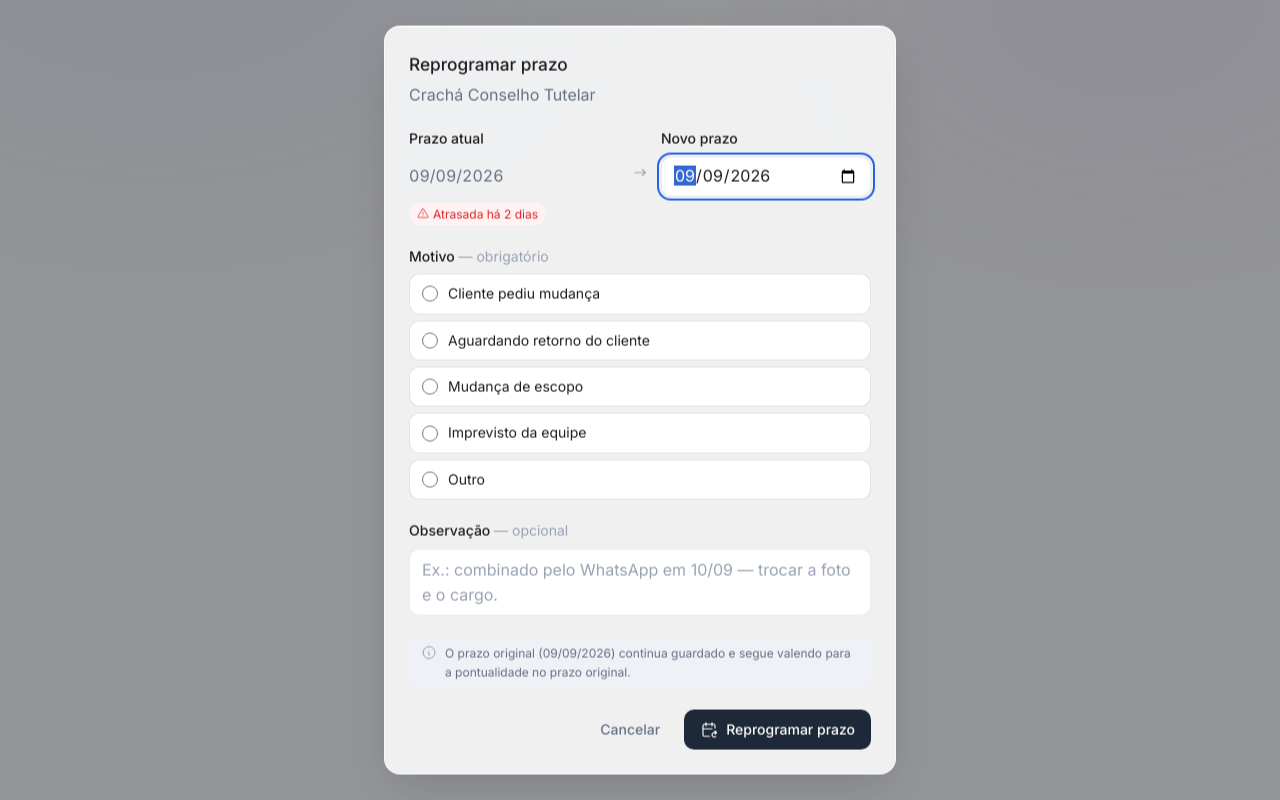
Test case: ReprogramarPrazoDialog › sem motivo não reprograma, e diz o que falta
Type "2026-09-18" into the date field labelled "Novo prazo" at [766, 176], box [661,156,871,196]
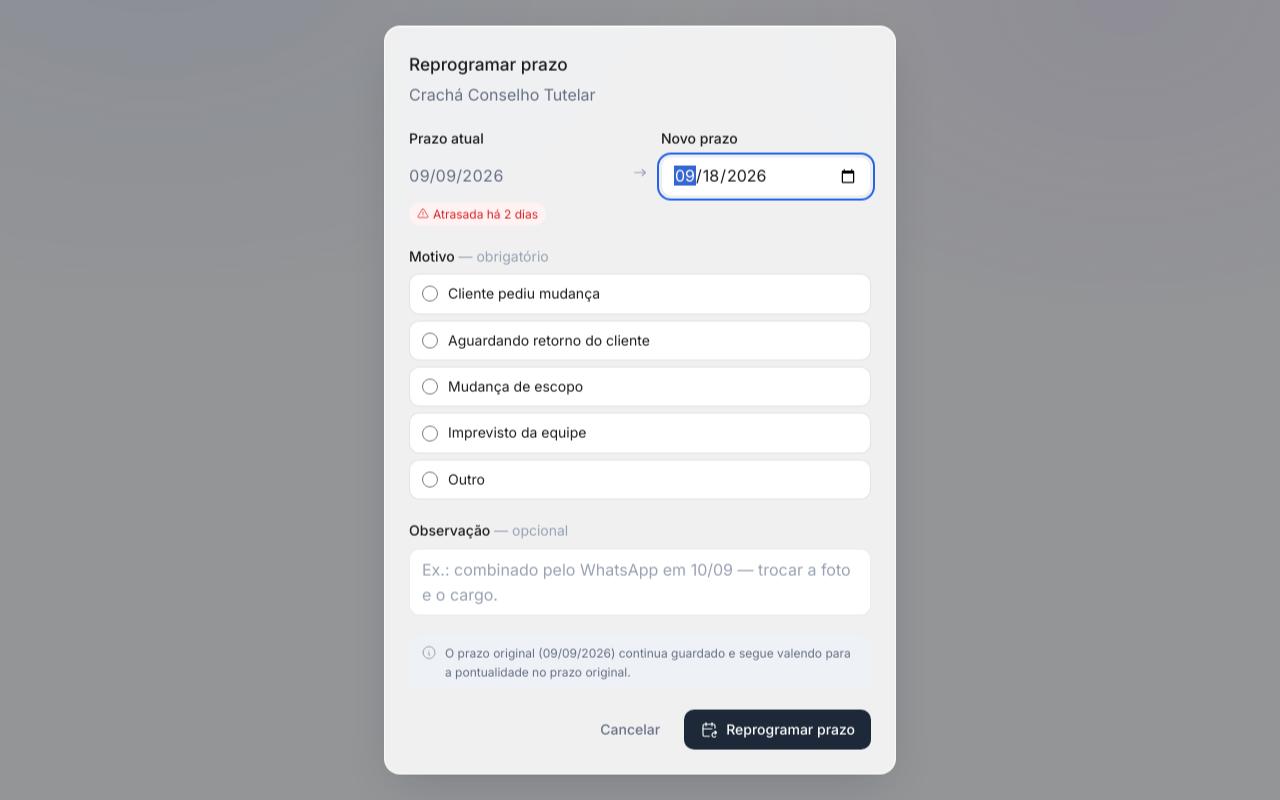
Click the button "Reprogramar prazo" at [778, 729], box [684,709,871,749]
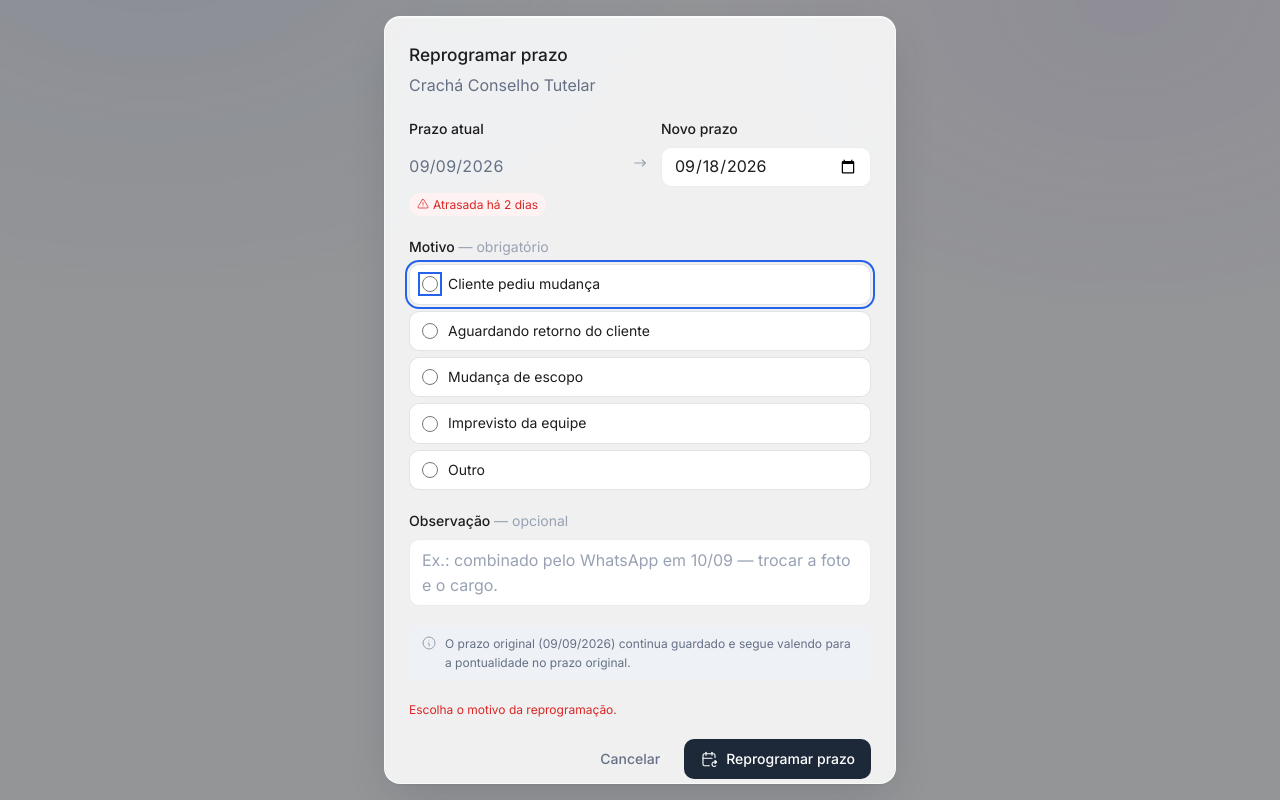
expect the message reads "Escolha o motivo da reprogramação.": met, box [409,702,617,717]
